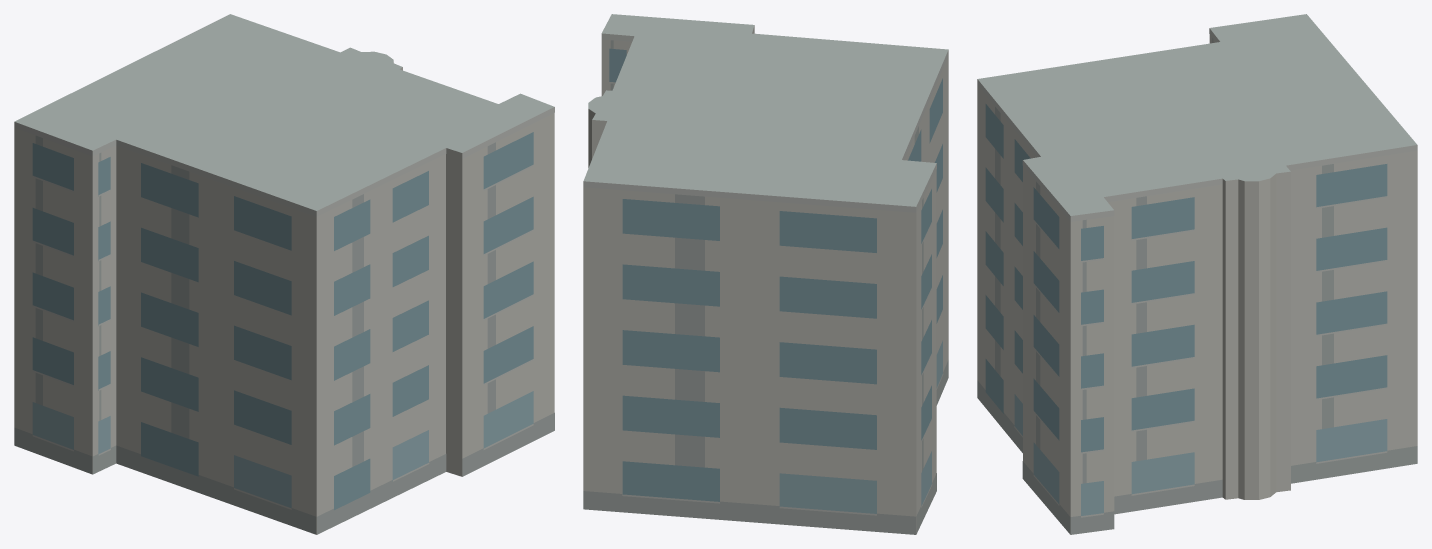
The model's file is survey-upis-32974259.glb.
The picture shows the model from 3 angles, left to right: view 1: azimuth 30°, elevation 25°; view 2: azimuth 150°, elevation 25°; view 3: azimuth 270°, elevation 25°; orthographic projection. The views are drawn at different scales.
Visible parts, largest first — view 1: survey-upis-32974259.tmp; view 2: survey-upis-32974259.tmp; view 3: survey-upis-32974259.tmp.
Boxes of the visible parts, x1,y1,x2,y2 form: survey-upis-32974259.tmp: (14, 14, 554, 534); survey-upis-32974259.tmp: (583, 14, 948, 534); survey-upis-32974259.tmp: (977, 14, 1417, 534).
Bounding box in the file's own units: 18.22 × 13.4 × 16.77.
